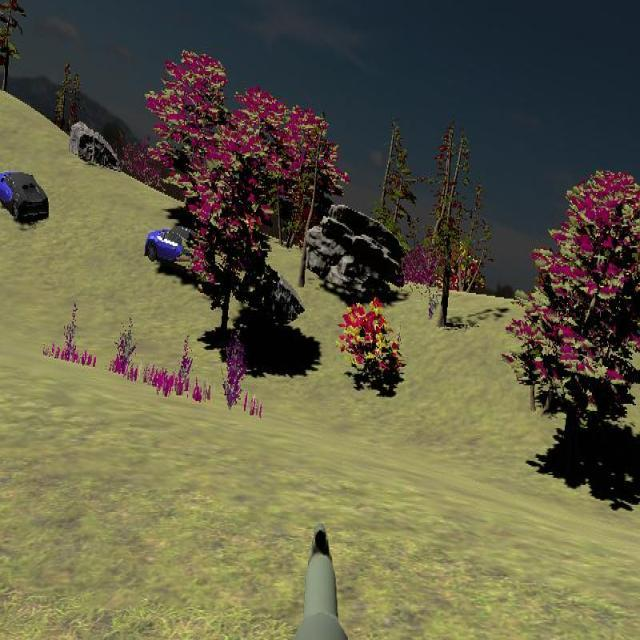car: (0, 169, 49, 224)
